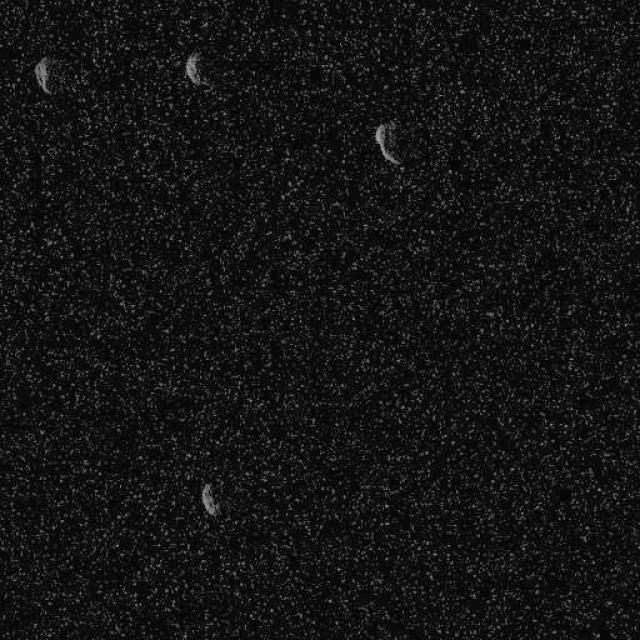D2: (372, 118, 402, 166), (184, 50, 208, 86), (32, 55, 54, 94), (199, 482, 221, 518)
